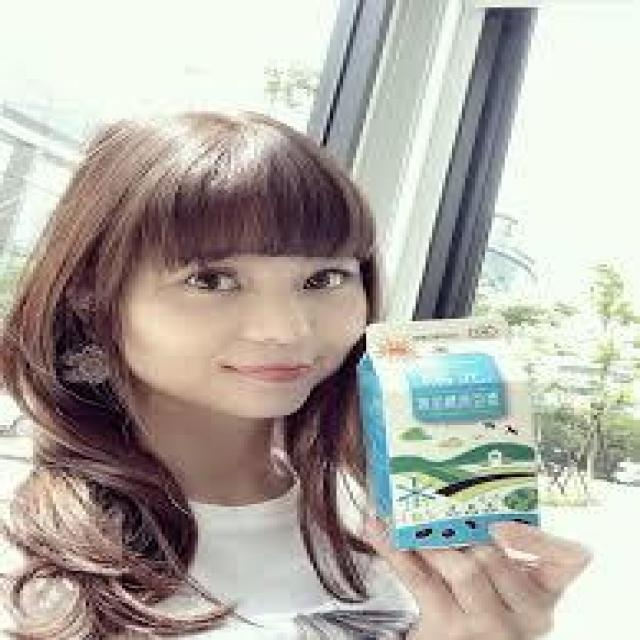TongYi_UnsweetenedBlackSoyMilk: (355, 312, 540, 558)
